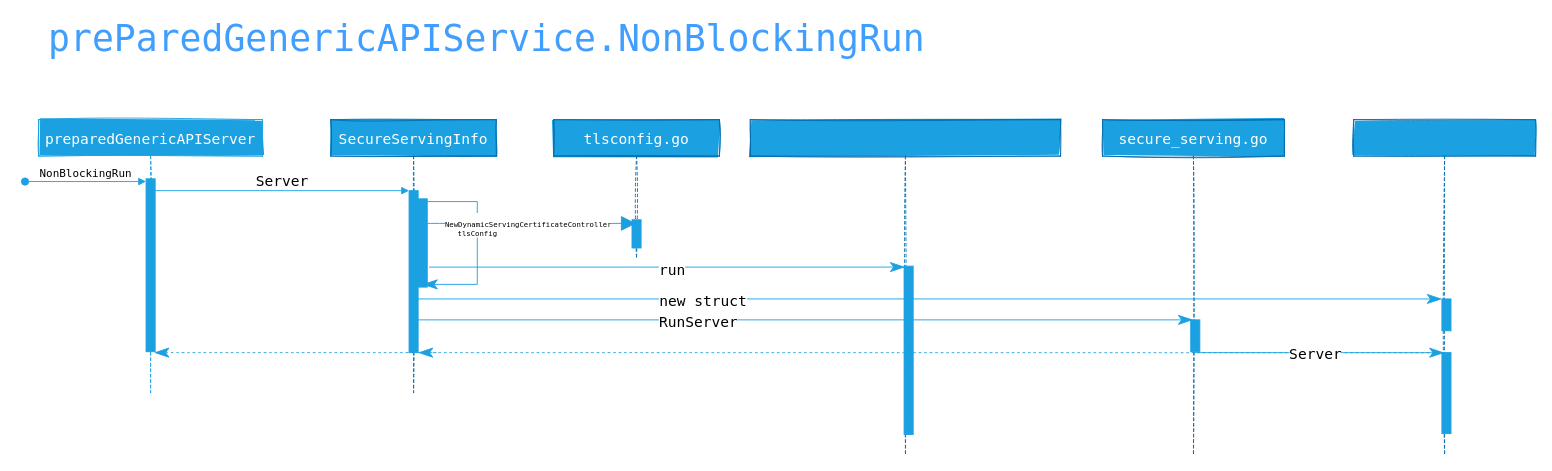
This 1552x471 diagram has some shape labels left out. The shapes that lost their labels are listed below. From the top down, each one's box as (x1, y1, x2, y2) in pixels, then its label:
(749, 119, 1061, 455): DynamicServingCertificateController
(1353, 119, 1536, 455): http.Server
